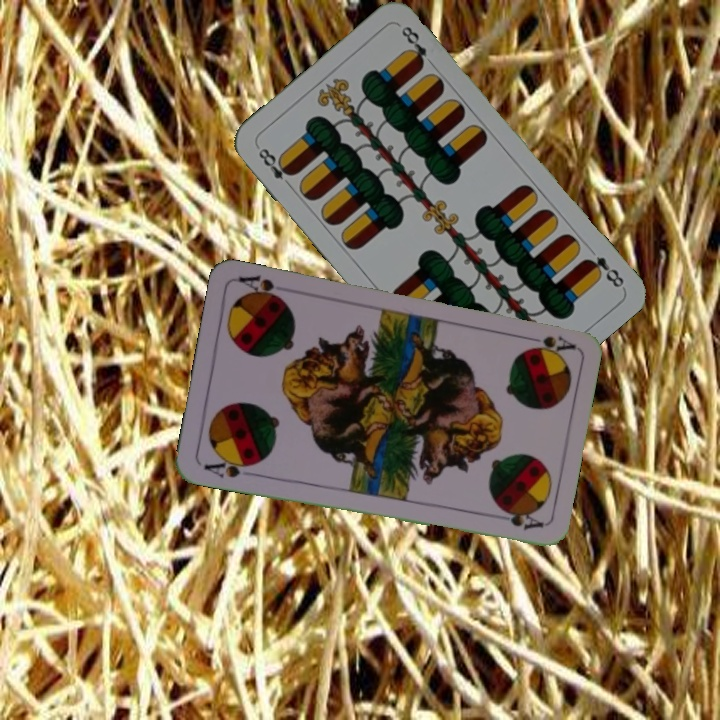E8: (254, 144, 297, 192), (580, 252, 627, 291)
SA: (200, 453, 259, 481), (518, 331, 577, 355)
